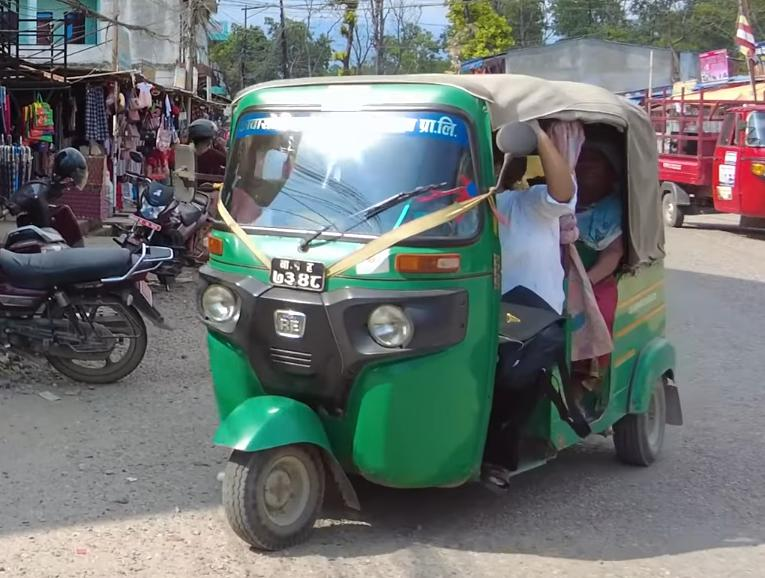auto_rickshaw: (191, 69, 692, 559)
